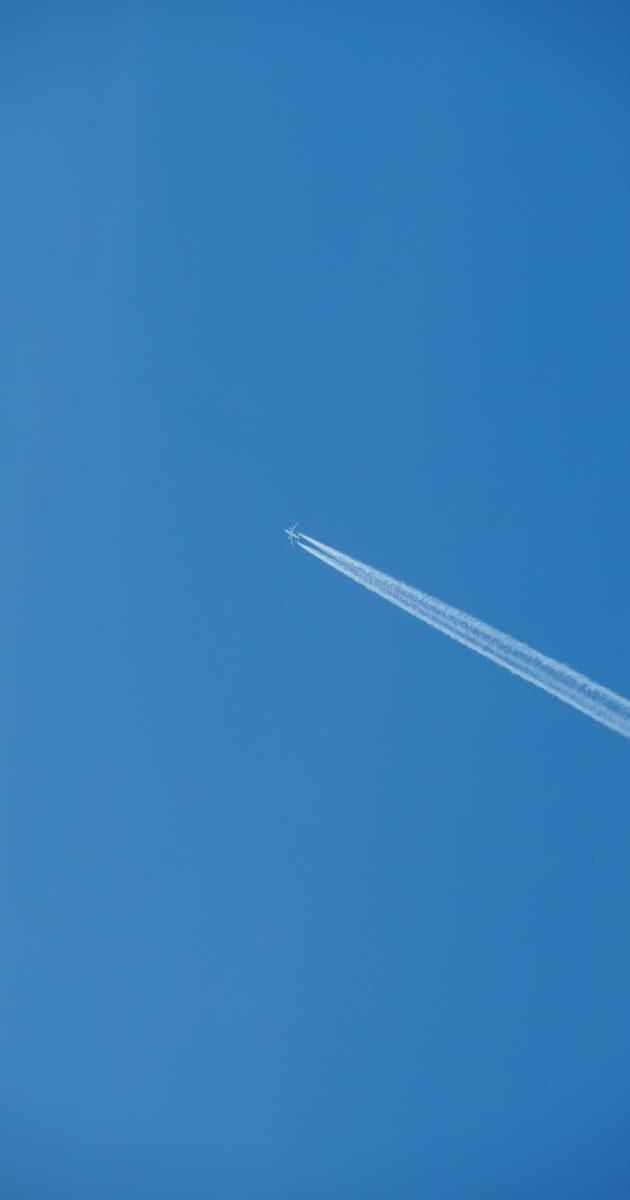Plane: (257, 460, 610, 748)
